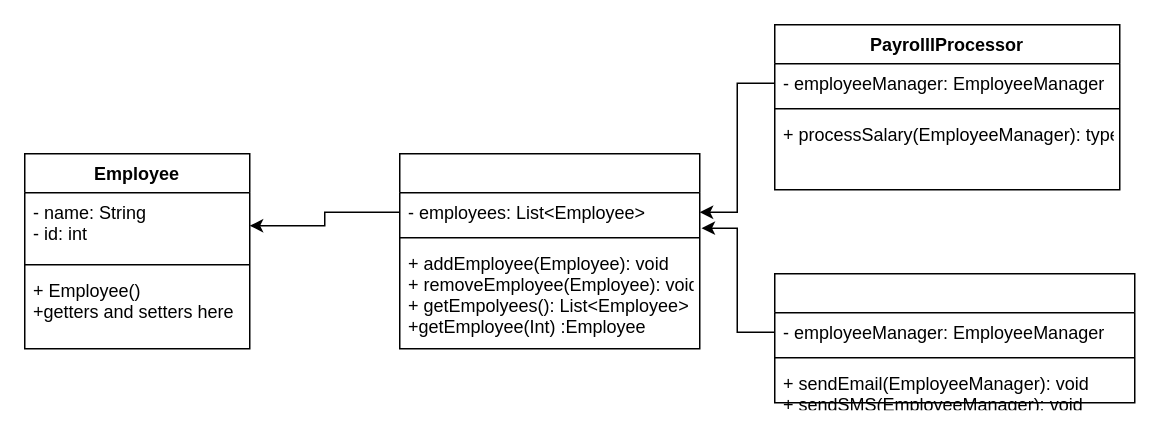
This 1160x440 diagram has some shape labels left out. The box of each missing label's shape, as (x1, y1, x2, y2) in pixels:
EmployeeManager: (398, 152, 700, 349)
NotificationService: (773, 272, 1135, 403)
